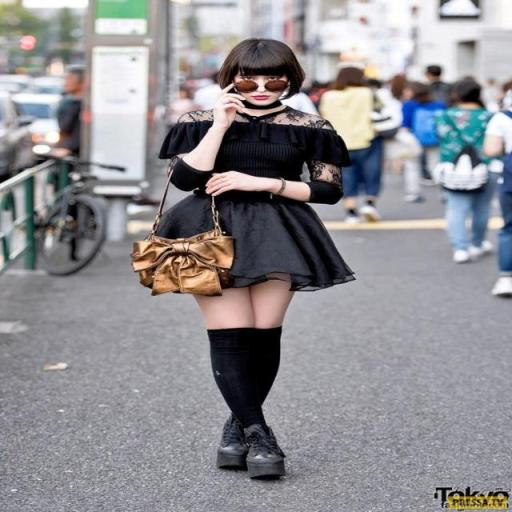person: (168, 39, 355, 486), (433, 79, 499, 266), (325, 65, 392, 224), (396, 79, 451, 204), (482, 85, 512, 302)
